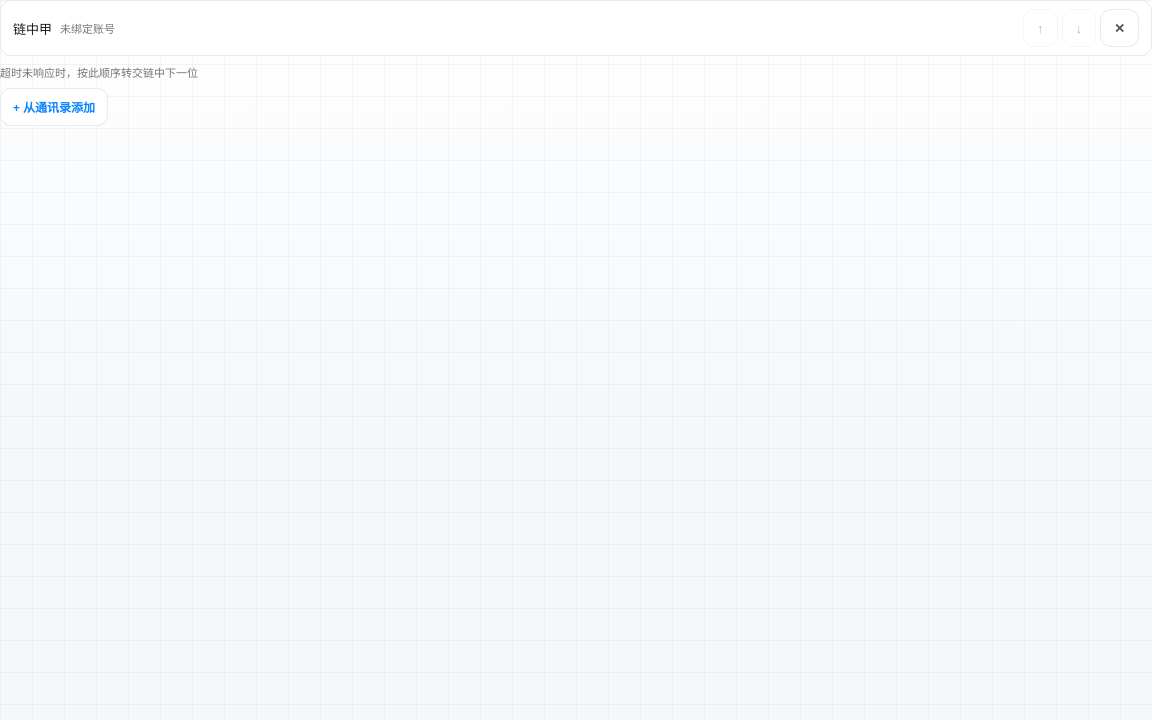
Test: DeciderChainEditor 通讯录选择器 › 已在链中的 wxid 从候选排除
What coordinates should you click on to do the following:
click the button "+ 从通讯录添加"
I would click on:
 (54, 107)
Its box is [0,88,108,126].
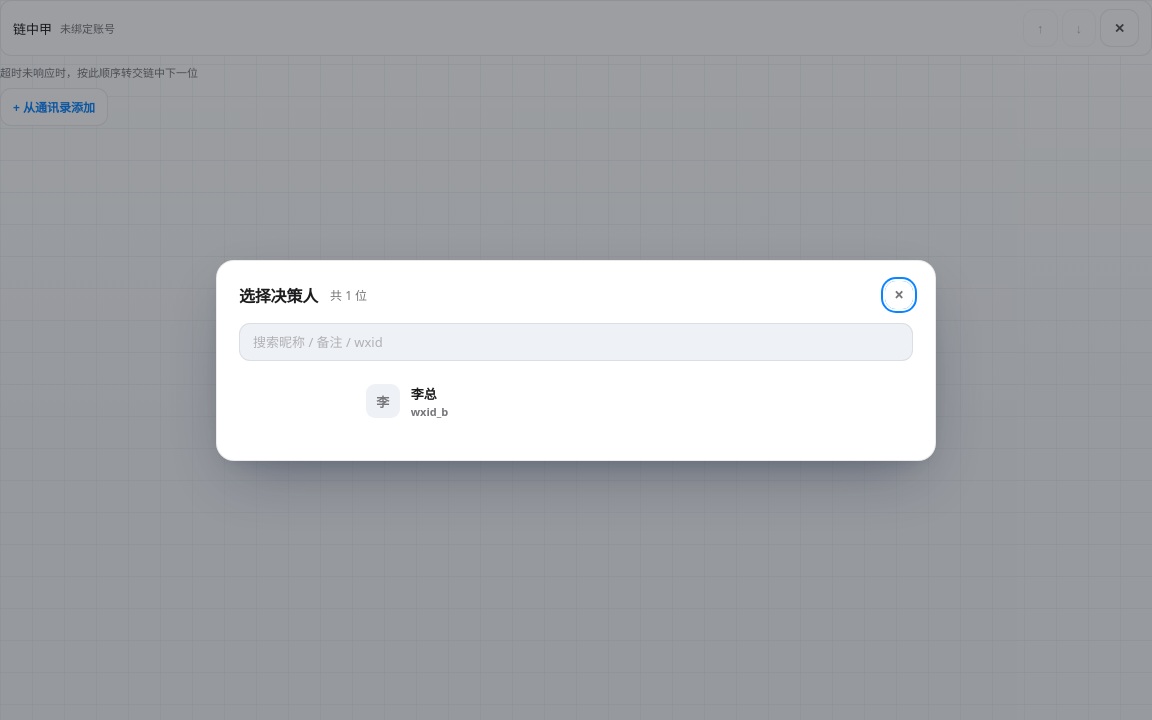
Now the text "李总" is shown, box [411,384,437,402]
